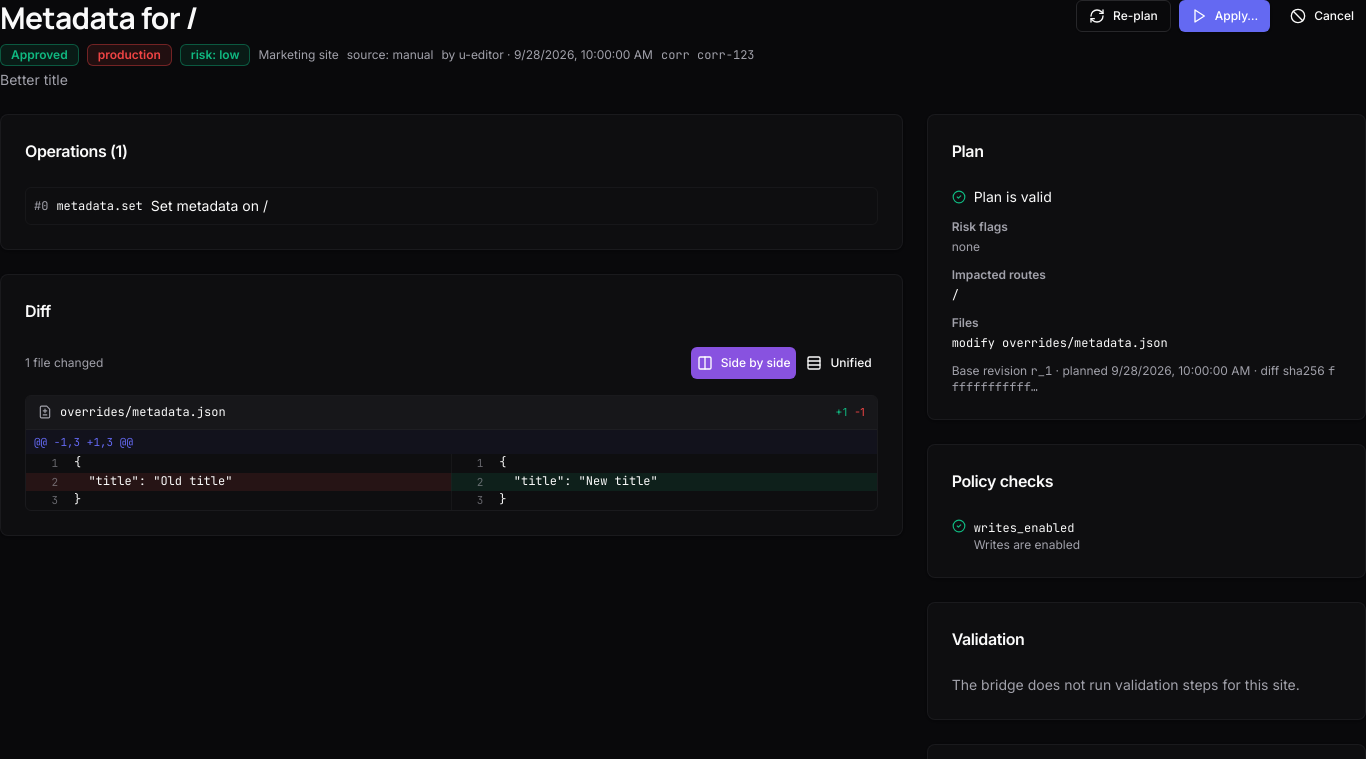
Test case: production apply needs the exact site name; the confirm value is sent
Click the button with test id "apply-btn": (1224, 16) [1179,0,1270,32]
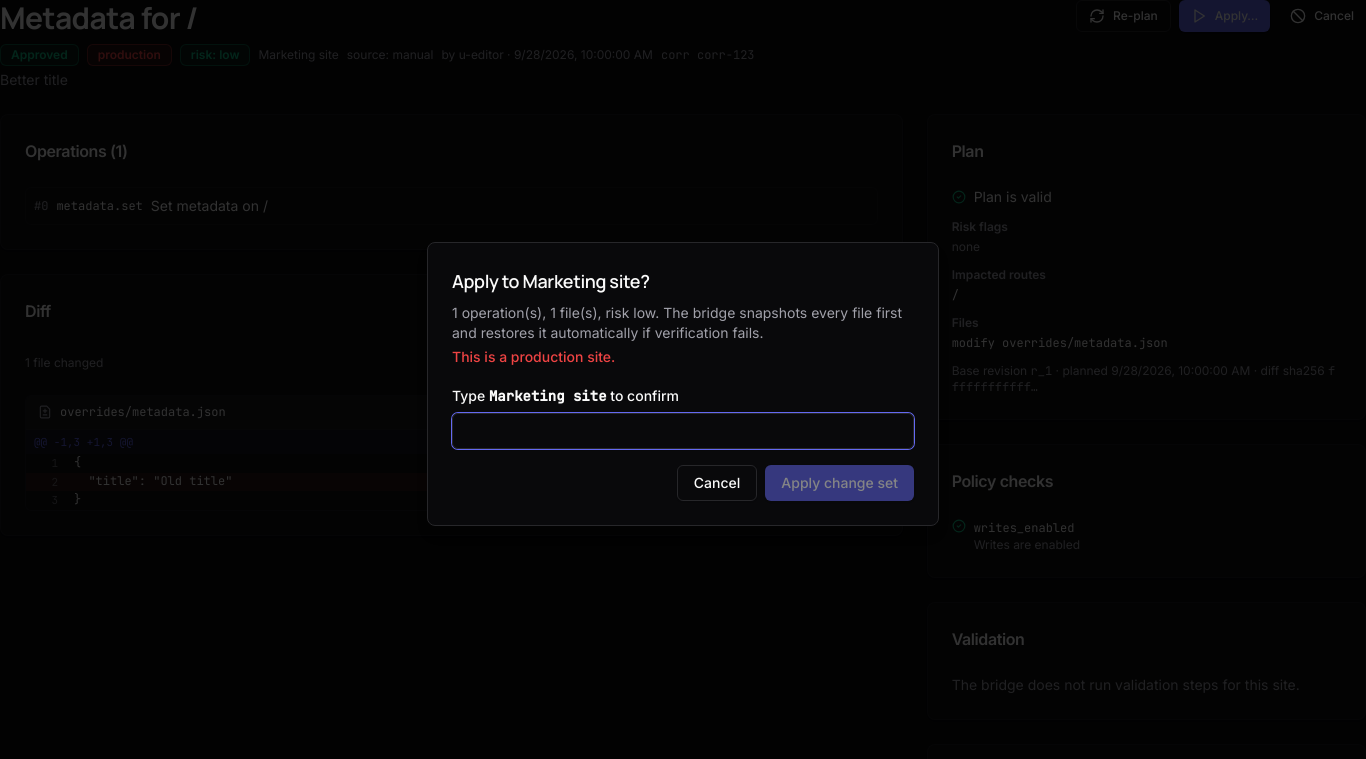
Expected: the button with test id "apply-dialog-confirm" is disabled, [765,465,914,501]
In the field with test id "apply-dialog-input": (683, 431) [452,413,914,449], type "Marketing"
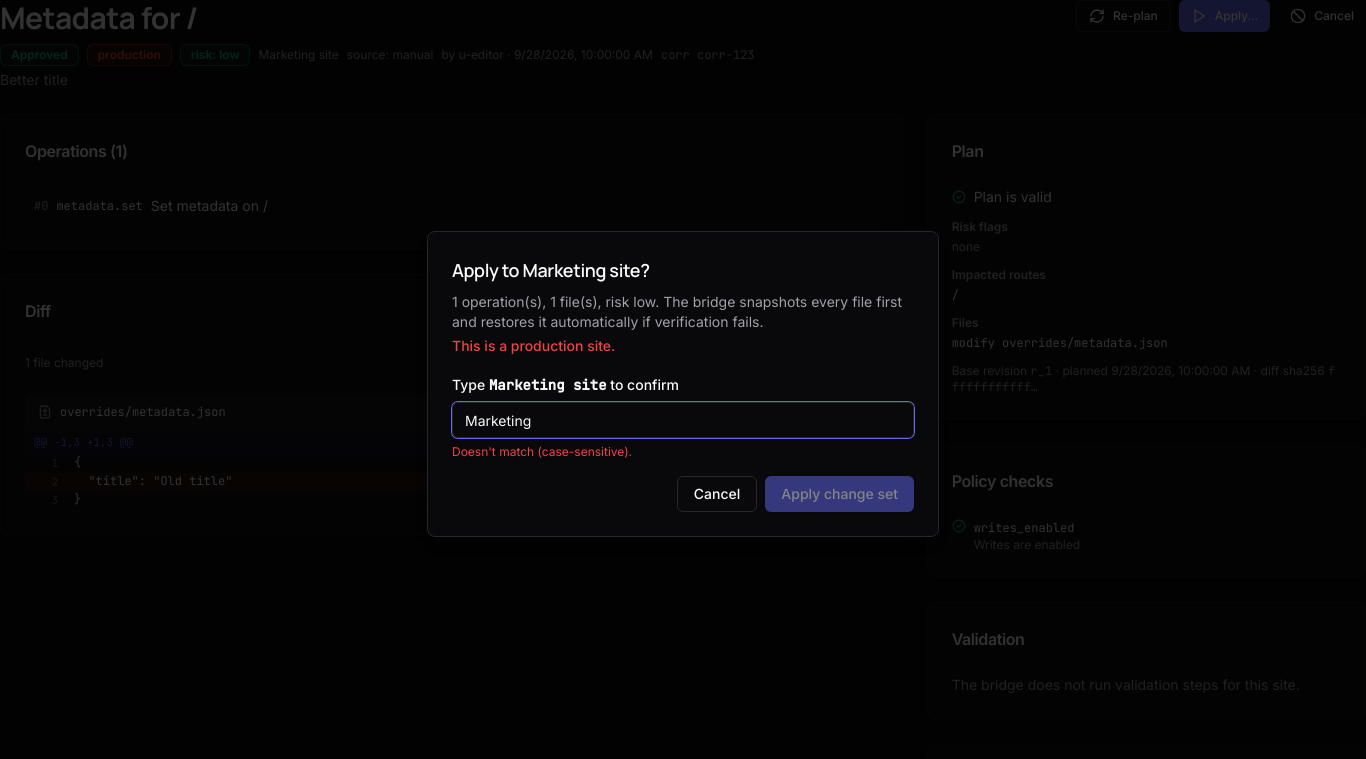
Expected: the button with test id "apply-dialog-confirm" is disabled, [765,476,914,512]
In the field with test id "apply-dialog-input": (683, 420) [452,402,914,438], type " site"
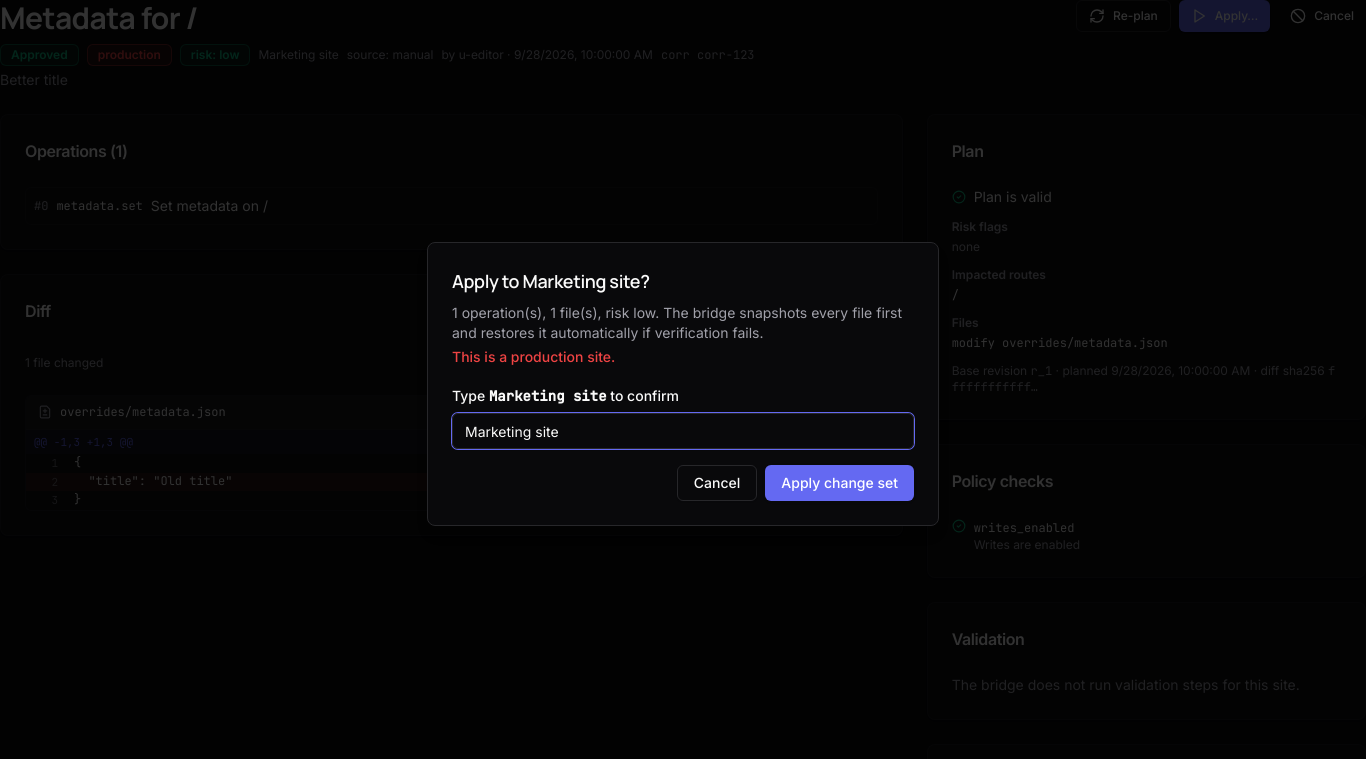
Expected: the button with test id "apply-dialog-confirm" is enabled
Click the button with test id "apply-dialog-confirm": (840, 483) [765,465,914,501]
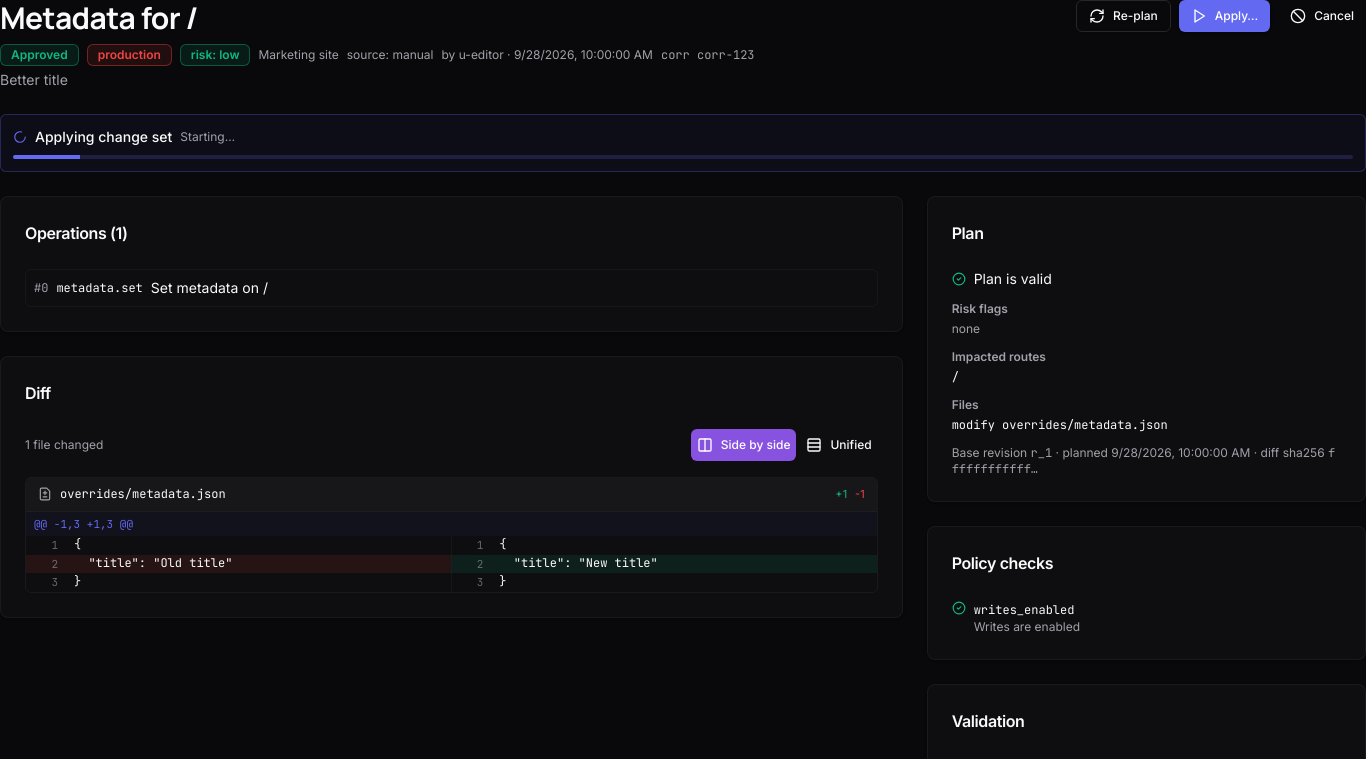
Expected: the message with test id "task-progress" shows "Applying change set", [35,128,172,145]
